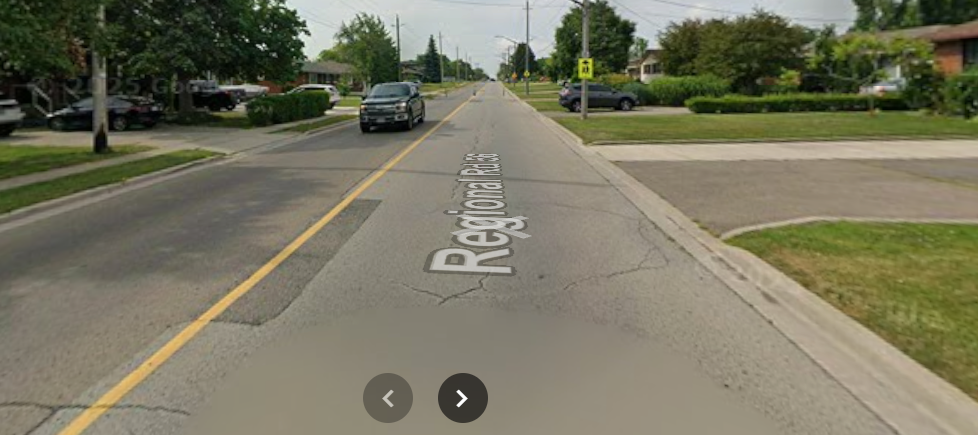cracks: (210, 192, 393, 333), (0, 394, 211, 429), (605, 210, 682, 289), (398, 267, 519, 314)
